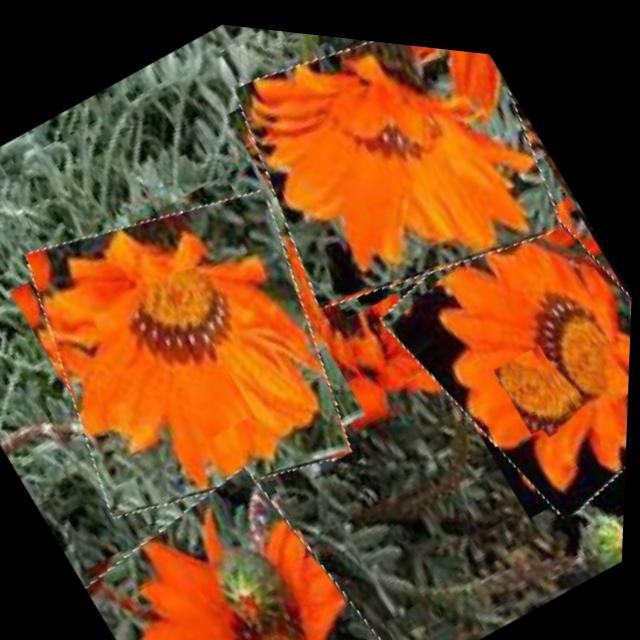Flower: (0, 131, 397, 568), (207, 19, 585, 347), (367, 147, 637, 531), (76, 439, 409, 640), (494, 327, 584, 427), (169, 352, 262, 447), (212, 630, 285, 640)
